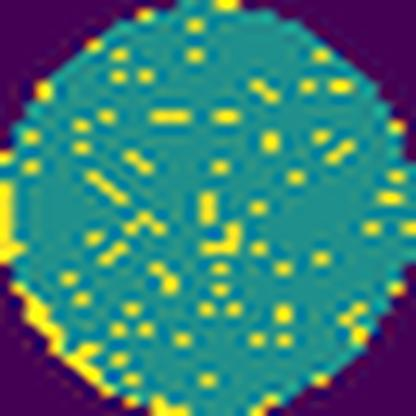Edge-Loc: (6, 278, 117, 402), (0, 178, 29, 266), (149, 394, 196, 416)
